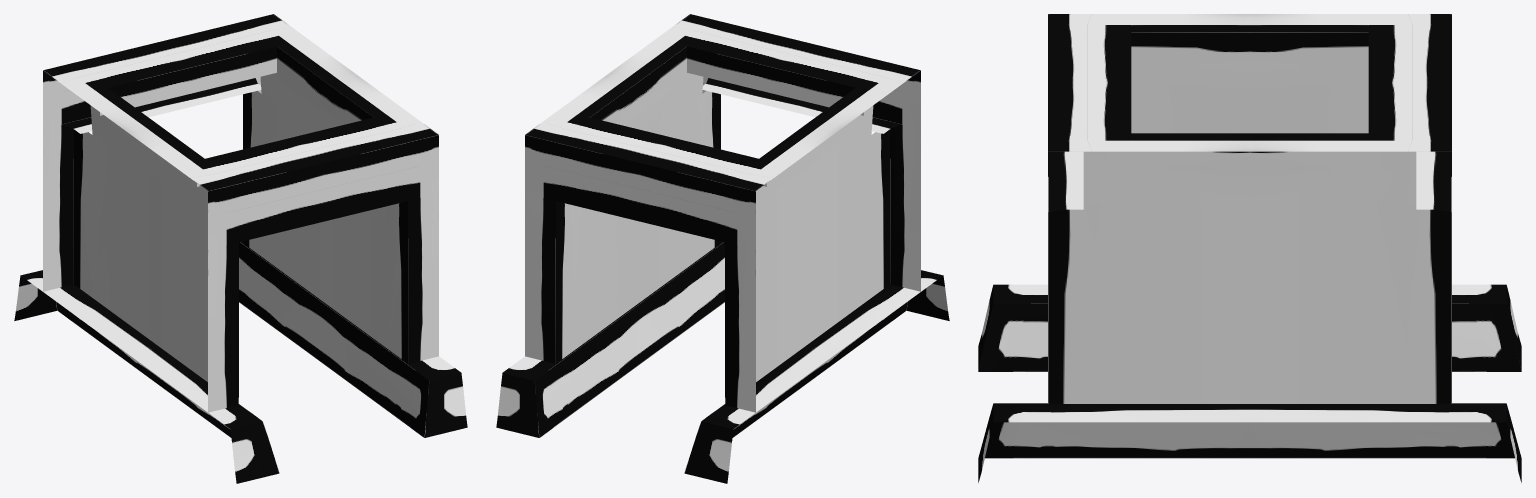
The model's file is 2 Sides Middle Tunnel Building.fbx.
The picture shows the model from 3 angles, left to right: view 1: azimuth 30°, elevation 25°; view 2: azimuth 150°, elevation 25°; view 3: azimuth 270°, elevation 25°; orthographic projection. The views are drawn at different scales.
Parts seen in each view (by area): view 1: 2 Sides Normal Durchgang, 2 Sides Normal Ground.002; view 2: 2 Sides Normal Durchgang, 2 Sides Normal Ground.002; view 3: 2 Sides Normal Durchgang, 2 Sides Normal Ground.002.
Part boxes in pixels (box(x1,y1,x2,y2)): 2 Sides Normal Durchgang: box(43, 14, 438, 412); 2 Sides Normal Ground.002: box(14, 241, 467, 483); 2 Sides Normal Durchgang: box(525, 14, 920, 412); 2 Sides Normal Ground.002: box(496, 241, 949, 483); 2 Sides Normal Durchgang: box(1048, 14, 1451, 403); 2 Sides Normal Ground.002: box(978, 284, 1521, 482).
Size of the model in its own units: 120 by 135 by 200.
